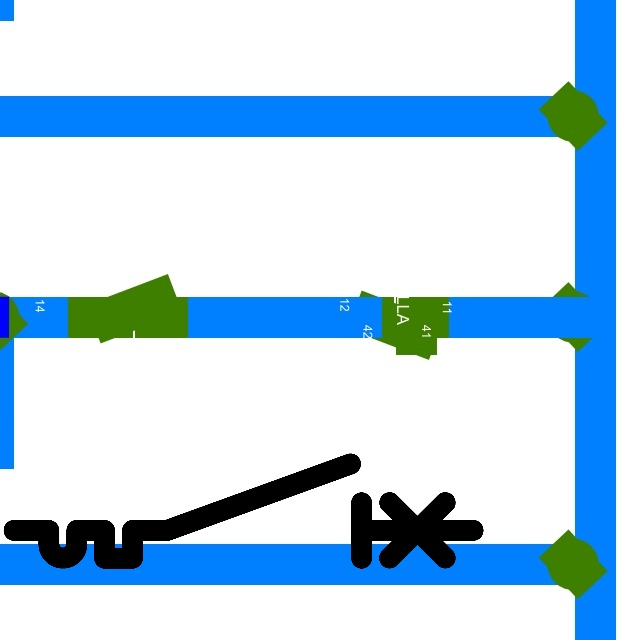interruptor_termomagnetico: (2, 452, 485, 570)
